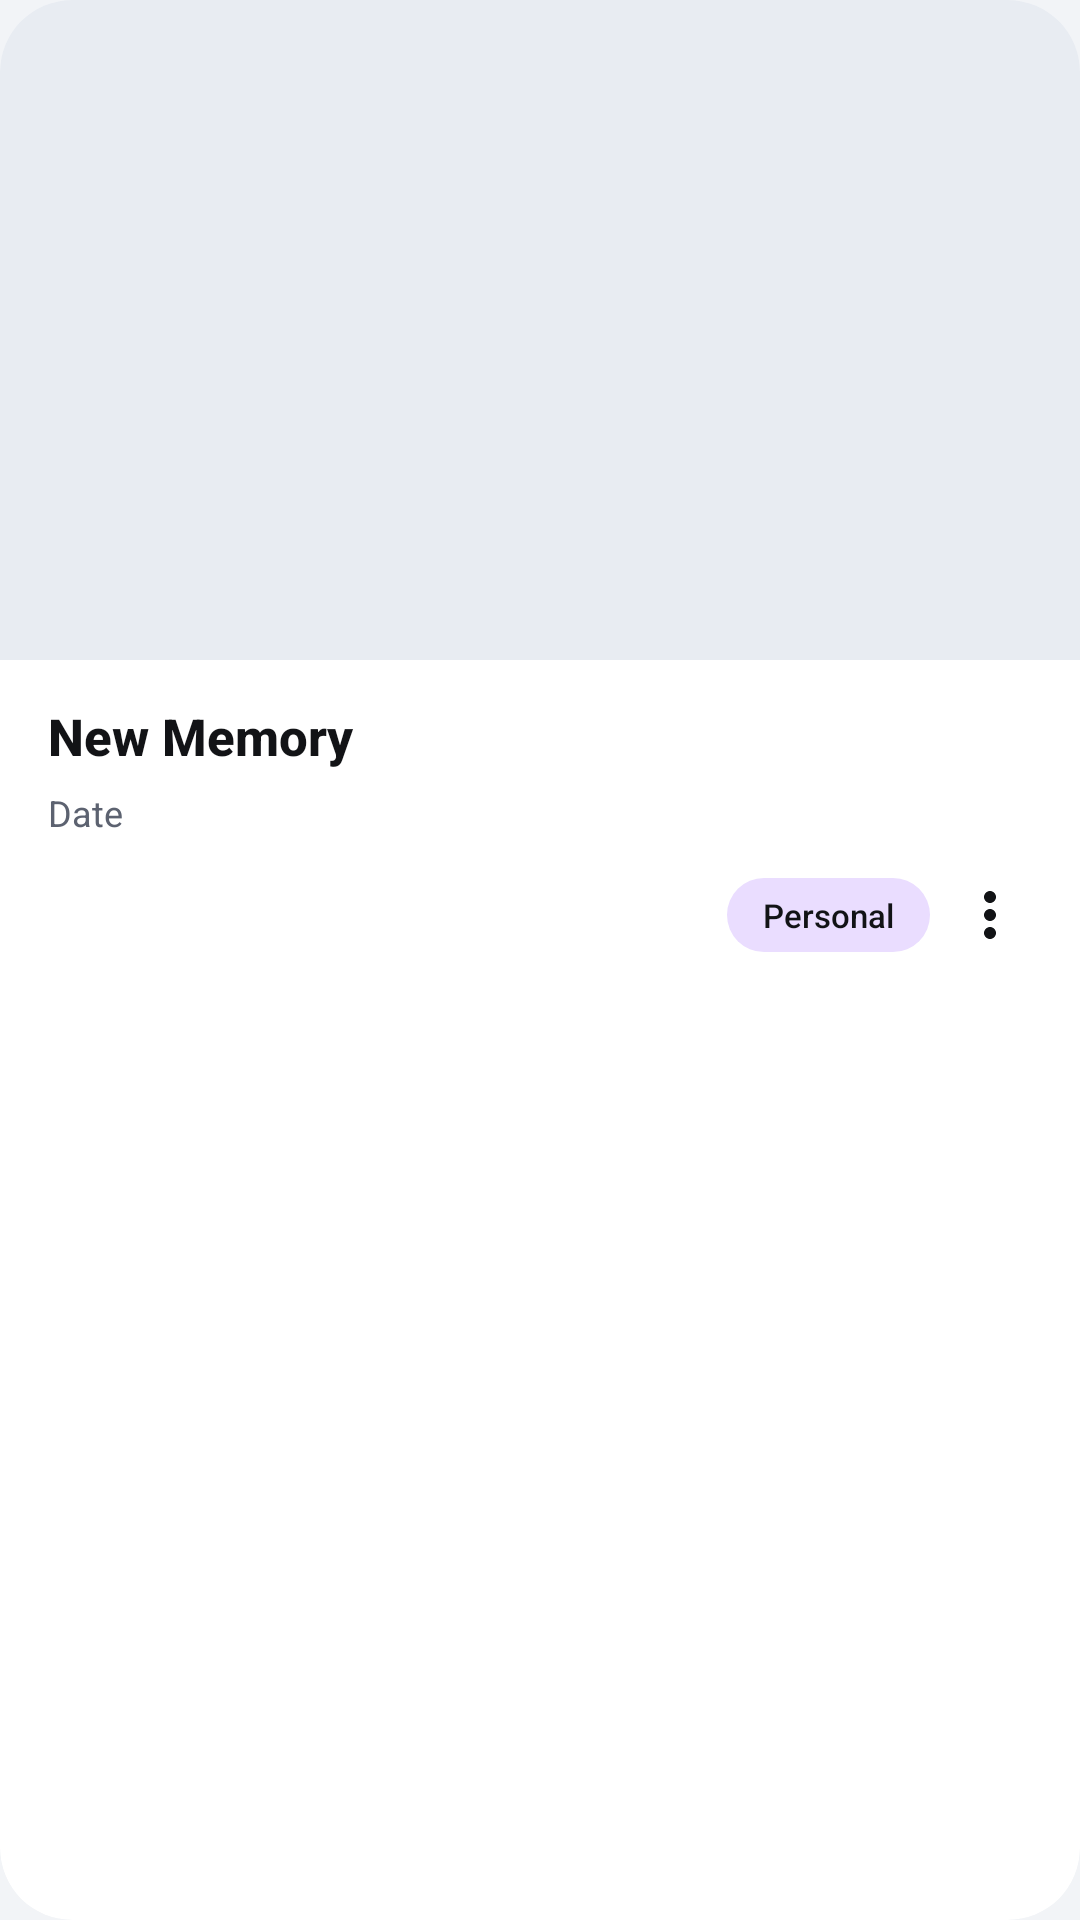

Icon bounding boxes for this 1080w x 1920h phone screenshot, format bbox=[x1, y1, x2, y2]:
Note Options: bbox=[984, 891, 996, 939]
